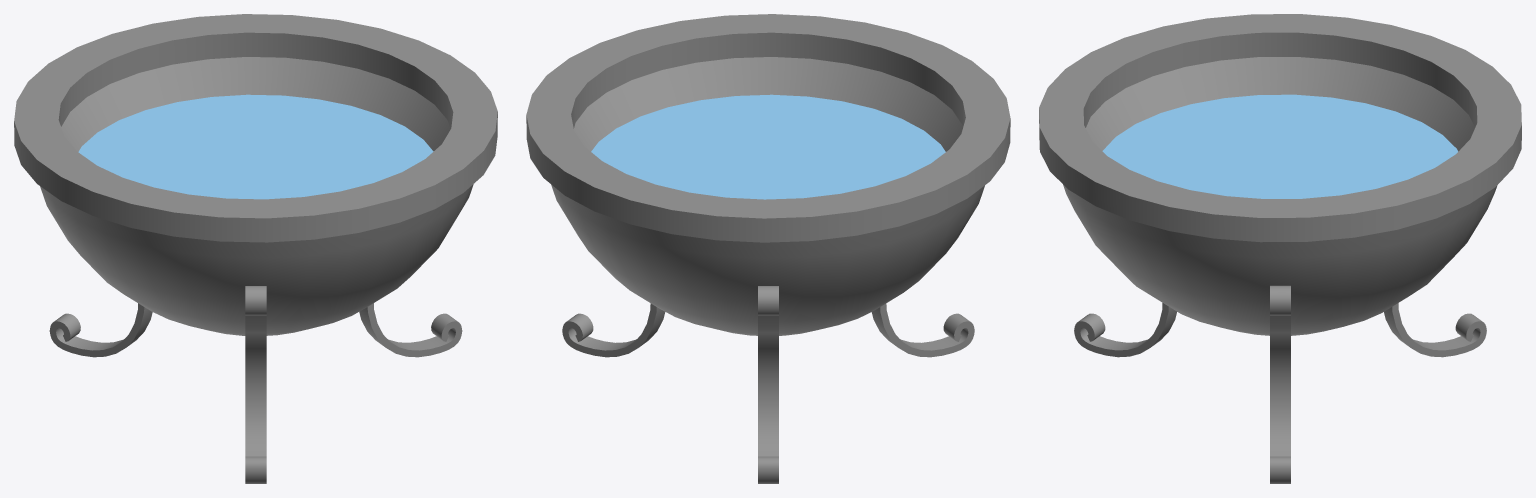
File: Fbx_FirePit.FBX
The picture shows the model from 3 angles, left to right: view 1: azimuth 30°, elevation 25°; view 2: azimuth 150°, elevation 25°; view 3: azimuth 270°, elevation 25°; orthographic projection.
Parts seen in each view (by area): view 1: Sphere001; view 2: Sphere001; view 3: Sphere001.
Boxes of the visible parts, x1,y1,x2,y2 form: Sphere001: [14, 14, 497, 483]; Sphere001: [526, 14, 1010, 483]; Sphere001: [1039, 14, 1521, 483].
Bounding box in the file's own units: 25.92 × 16.42 × 25.92.
